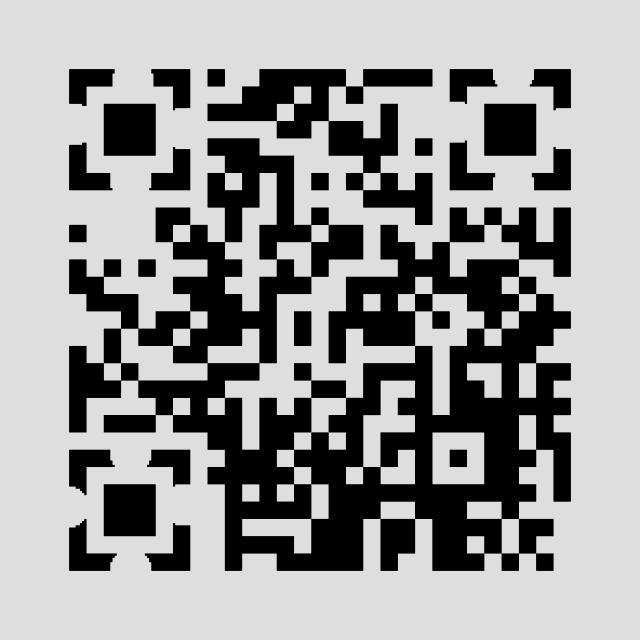QRCode: (47, 55, 592, 593)
